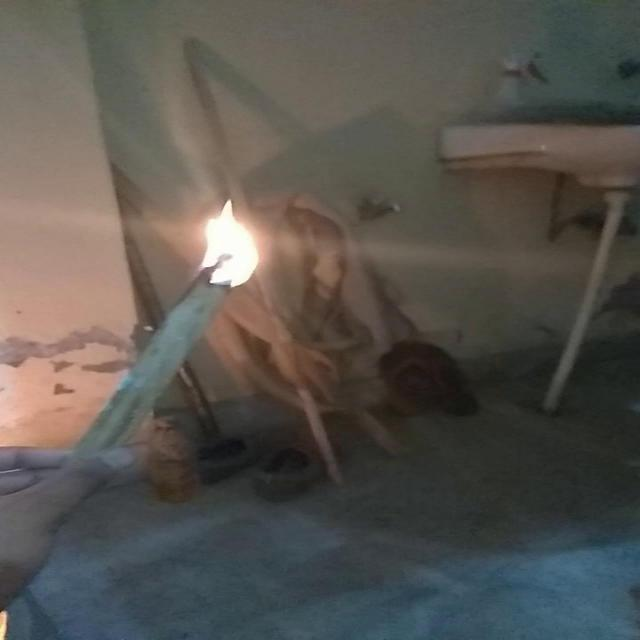fire: (152, 191, 293, 303)
